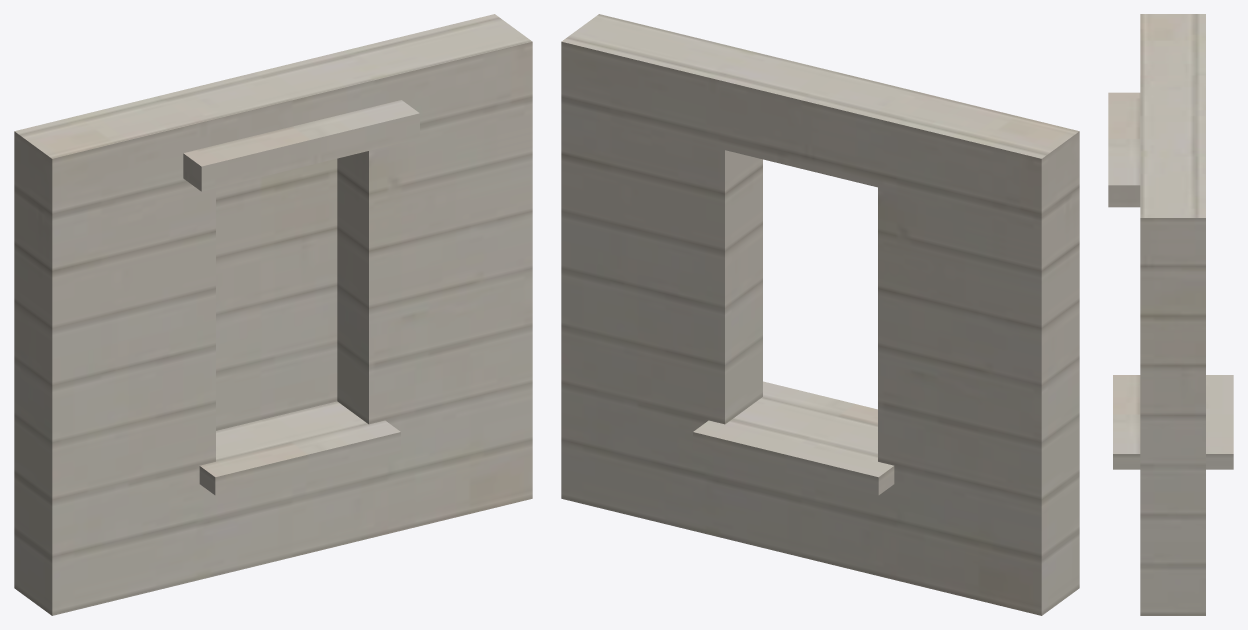
The model's file is debris_dc_wall_window.glb.
3 views of the same model, side by side, from view 1: azimuth 30°, elevation 25°; view 2: azimuth 150°, elevation 25°; view 3: azimuth 270°, elevation 25° (orthographic). The views are drawn at different scales.
Visible parts, largest first — view 1: debris_dc_wall_window; view 2: debris_dc_wall_window; view 3: debris_dc_wall_window.
Boxes of the visible parts, x1=… form: debris_dc_wall_window: x1=14, y1=14, x2=532, y2=615; debris_dc_wall_window: x1=561, y1=14, x2=1079, y2=615; debris_dc_wall_window: x1=1108, y1=14, x2=1233, y2=615.
Bounding box in the file's own units: 4.4 × 4 × 1.14.
1 material, 1 textured.
